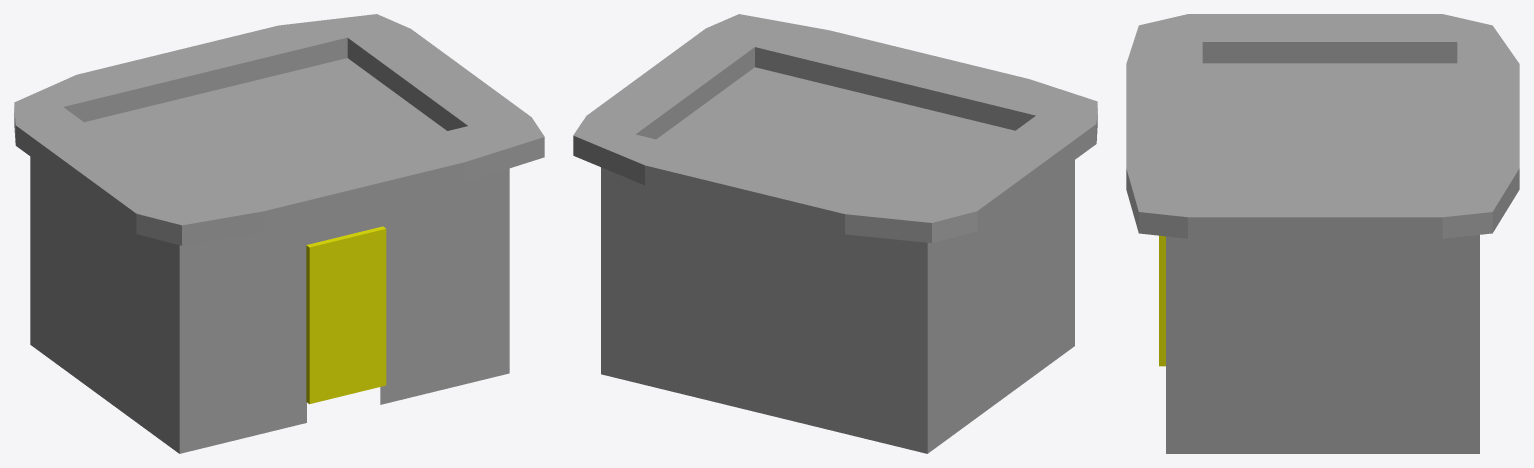
Rendered from bit sta7.fbx.
The picture shows the model from 3 angles, left to right: view 1: azimuth 30°, elevation 25°; view 2: azimuth 150°, elevation 25°; view 3: azimuth 270°, elevation 25°; orthographic projection. The views are drawn at different scales.
Visible parts, largest first — view 1: pCube2, pCube3; view 2: pCube2; view 3: pCube2, pCube3.
Boxes of the visible parts, <box> form: pCube2: <box>14,14,544,453</box>; pCube3: <box>306,226,386,404</box>; pCube2: <box>573,14,1097,453</box>; pCube2: <box>1126,14,1519,453</box>; pCube3: <box>1159,235,1165,366</box>.
Size of the model in its own units: 26.85 by 15.61 by 21.96.
